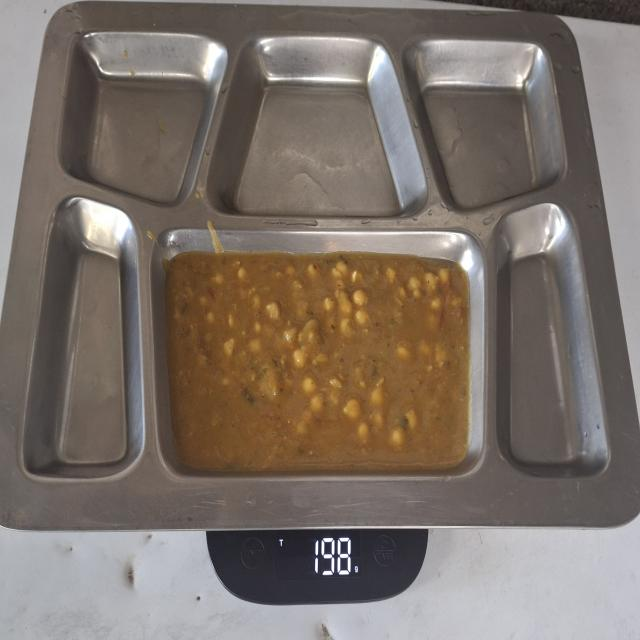Dal: (159, 245, 477, 476)
